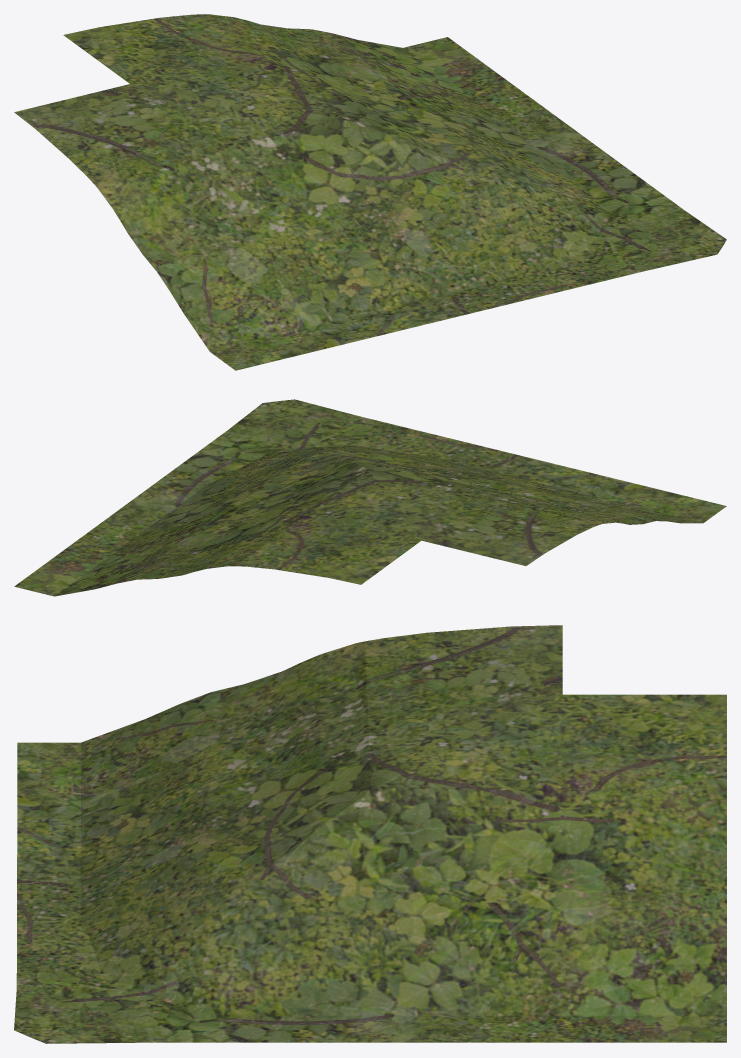
Rendered from GrassSlopeTurn.fbx.
The picture shows the model from 3 angles, top to bottom: view 1: azimuth 30°, elevation 25°; view 2: azimuth 150°, elevation 25°; view 3: azimuth 270°, elevation 25°; orthographic projection. The views are drawn at different scales.
Parts seen in each view (by area): view 1: GrassSlope_Turn_done; view 2: GrassSlope_Turn_done; view 3: GrassSlope_Turn_done.
Part boxes in pixels (x1,y1,x2,y2): GrassSlope_Turn_done: [14, 14, 726, 370]; GrassSlope_Turn_done: [14, 399, 726, 596]; GrassSlope_Turn_done: [14, 625, 726, 1043].
Size of the model in its own units: 416 by 75.74 by 416.
1 material, 1 textured.
